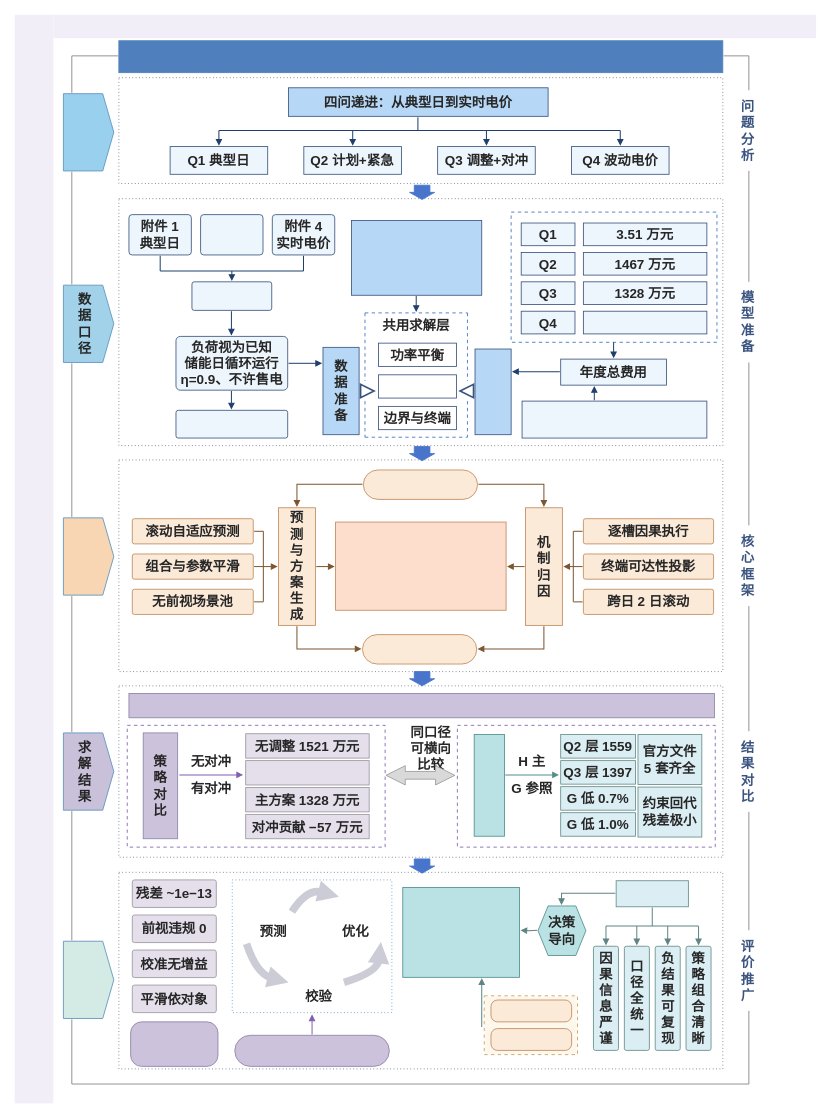
Image size: 830x1117. Some labels were removed from this diagram. Each missing label, with the box of its shape:
1559 / 1397 万: (583, 310, 707, 334)
Q 4 双 口 径: (473, 734, 504, 836)
SOC 递推: (378, 374, 457, 398)
δ*≈400 kW 可部署: (234, 1034, 389, 1066)
三点调整 1423 万: (245, 760, 369, 785)
信息时序约束: (362, 469, 478, 499)
单位与相位: (191, 281, 272, 310)
园区微网: (490, 1028, 572, 1050)
微网购电—储能联合调度：预测、计划、调整与实时电价的四问递进建模: (118, 40, 723, 73)
指 标 聚 合: (474, 348, 511, 435)
模 型 方 法: (63, 517, 114, 595)
模型评价: (615, 880, 688, 907)
现货市场: (490, 999, 572, 1022)
破 题 分 解: (63, 93, 114, 171)
符号与口径表: (175, 410, 288, 438)
精度≠费用； 预测按决策标定； 全流程可复现: (402, 887, 520, 977)
统一口径下的四问结果：调整与对冲贡献最大，跨日结构再省 4.9 万元: (128, 693, 714, 718)
统一建模引擎： 储能 LP + 逐槽 因果执行 + 三层 结算与风险对冲: (351, 220, 482, 295)
费用导向标定: (362, 634, 477, 664)
附件 2·3 负荷光伏: (200, 214, 263, 255)
附件 5 官方模板 回读勾稽校验: (521, 400, 707, 438)
预测→计划→调整→执行 的四层递进模型； 三层结算与场景对冲； 滚动标定全部无前视: (335, 521, 506, 610)
预测目标 决策优先: (130, 1021, 218, 1066)
验 证 展 望: (63, 940, 114, 1018)
